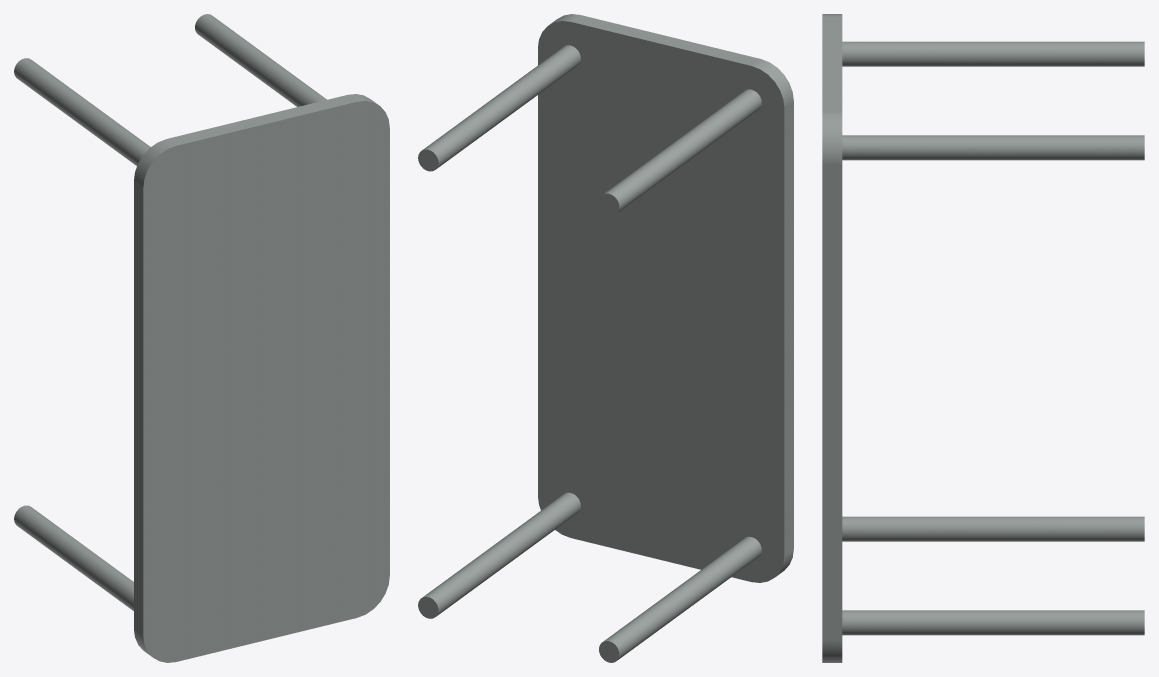
Rendered from table.obj.
3 renders of one model, left to right at view 1: azimuth 30°, elevation 25°; view 2: azimuth 150°, elevation 25°; view 3: azimuth 270°, elevation 25°, orthographic. The views are drawn at different scales.
Parts seen in each view (by area): view 1: Table; view 2: Table; view 3: Table.
Part boxes in pixels (bbox=[...]): Table: bbox=[14, 14, 389, 662]; Table: bbox=[418, 14, 793, 662]; Table: bbox=[822, 14, 1144, 662].
Bounding box in the file's own units: 0.6 × 1.2 × 0.64.
Materials: 1 (1 with a texture image).
